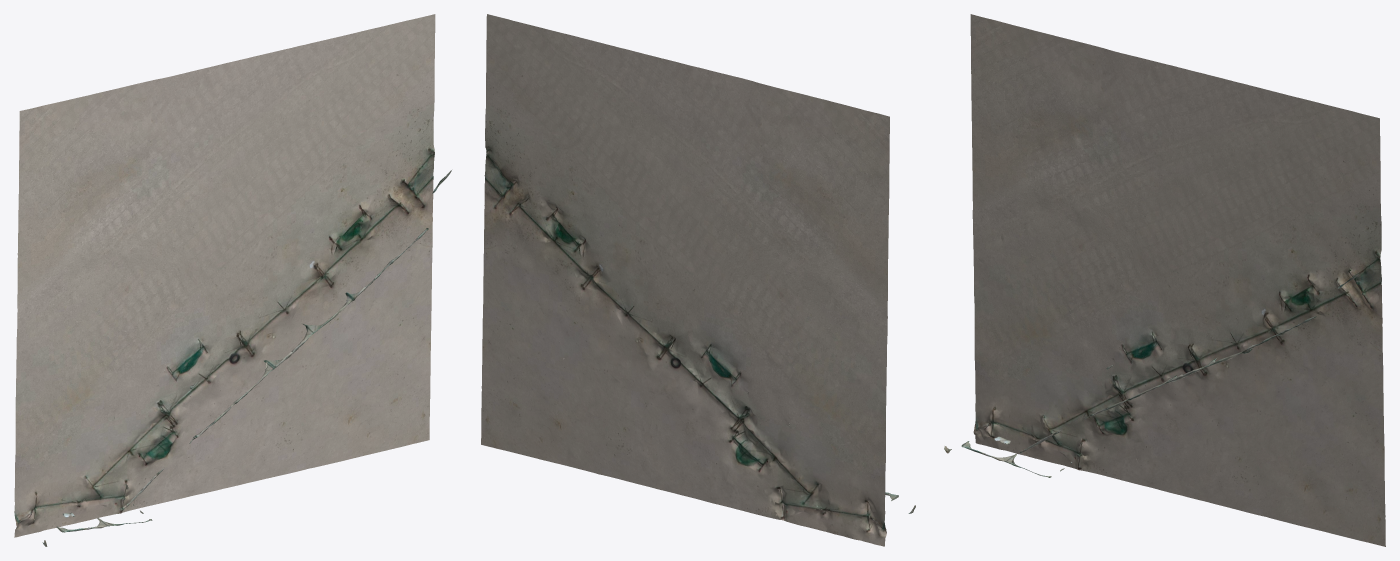
The model's file is Tile_+021_+009.fbx.
3 renders of one model, left to right at view 1: azimuth 30°, elevation 25°; view 2: azimuth 150°, elevation 25°; view 3: azimuth 330°, elevation 25°, orthographic.
Visible parts, largest first — view 1: DefaultName; view 2: DefaultName; view 3: DefaultName.
Part boxes in pixels (x1,y1,x2,y2): DefaultName: (14,14,451,546); DefaultName: (481,14,915,546); DefaultName: (944,14,1385,546).
Size of the model in its own units: 22.54 by 22.54 by 3.67.
